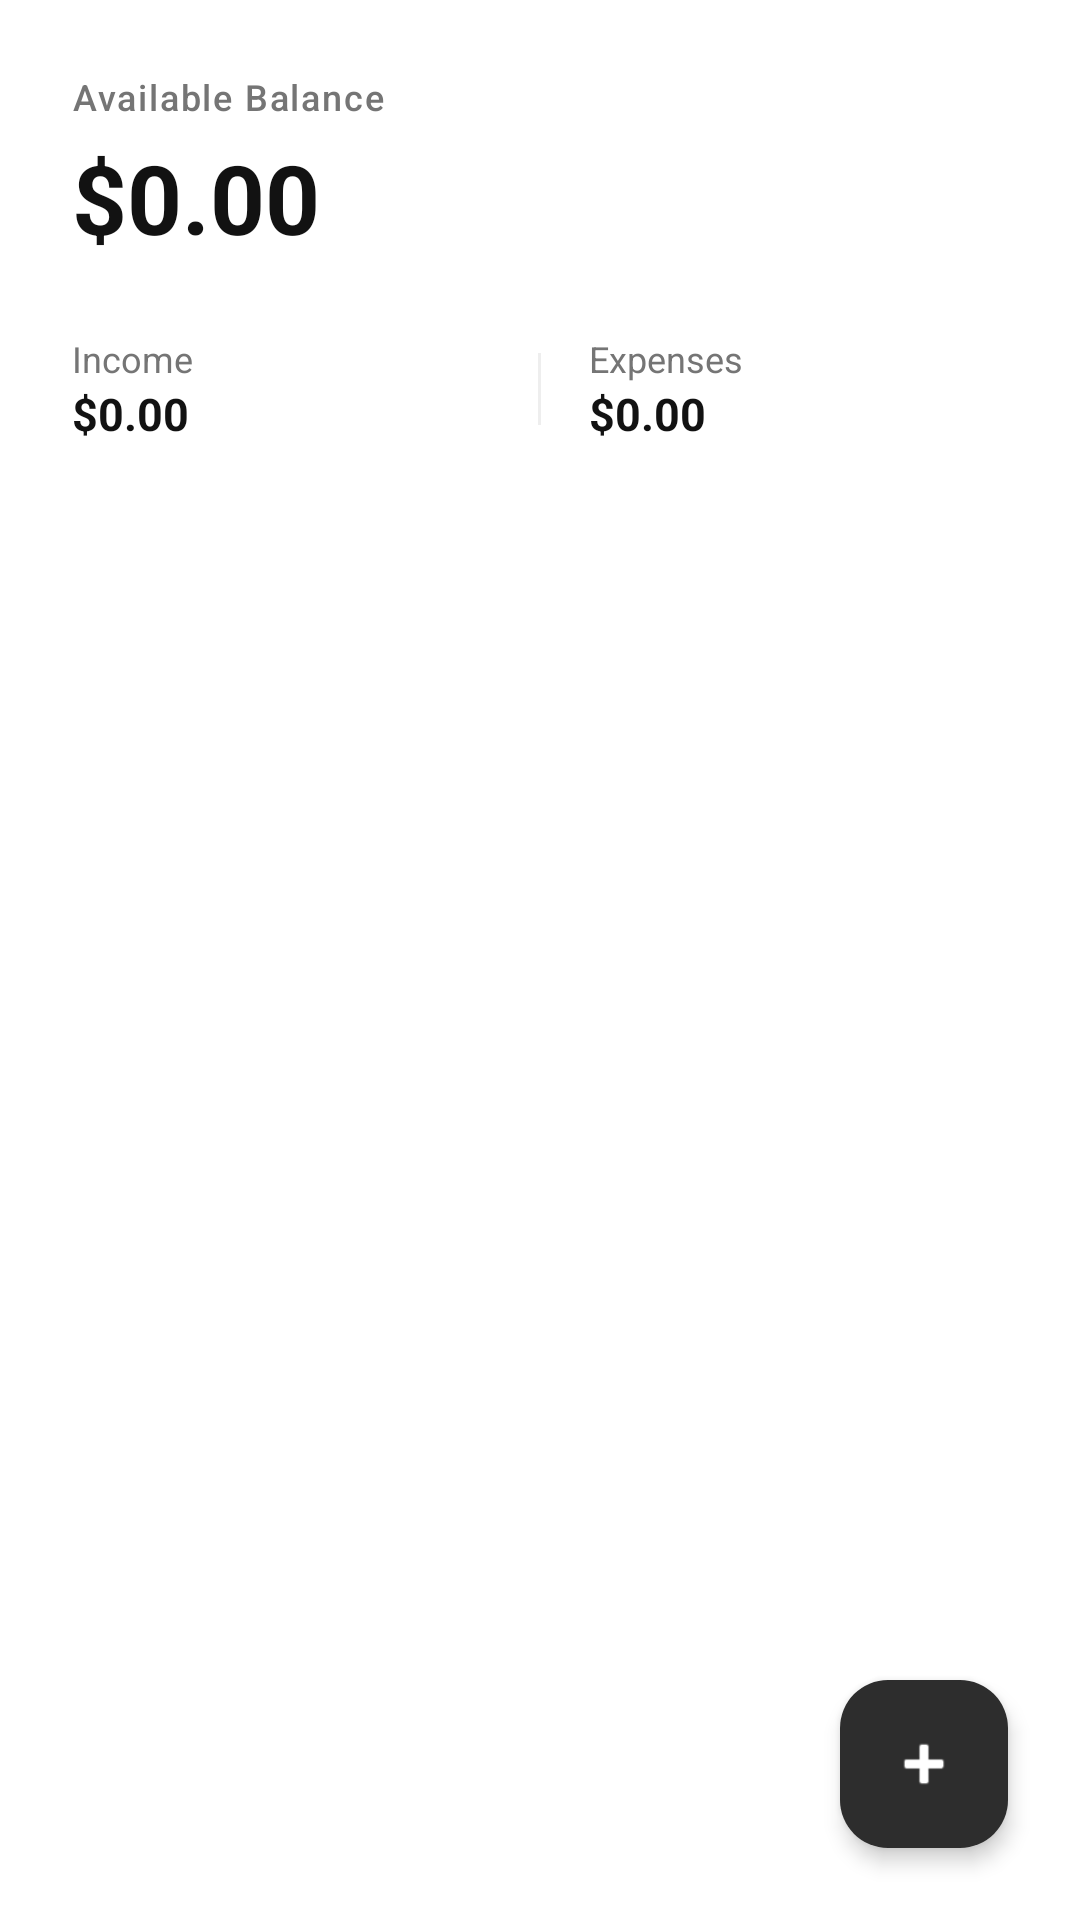

Named icons in this screenshot (1080 x 1920) and their centers, (x,y):
New Transaction: (924,1764)
